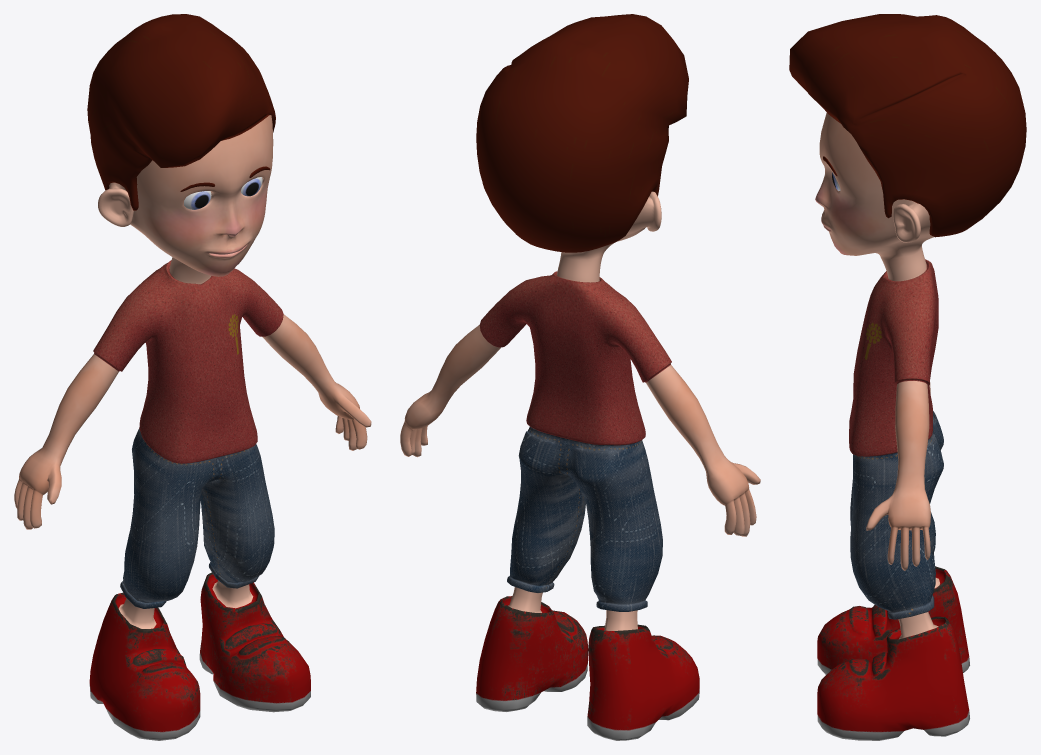
The model's file is boy_character_-_cartoon.glb.
The picture shows the model from 3 angles, left to right: view 1: azimuth 30°, elevation 25°; view 2: azimuth 150°, elevation 25°; view 3: azimuth 270°, elevation 25°; orthographic projection.
Visible parts, largest first — view 1: character01; view 2: character01; view 3: character01.
Boxes of the visible parts, <box> form: character01: <box>14,14,371,740</box>; character01: <box>400,14,760,740</box>; character01: <box>789,14,1026,740</box>.
Size of the model in its own units: 0.9033 by 1.71 by 0.5446.
1 material, 1 textured.
